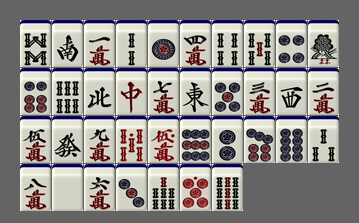0m: (148, 116, 179, 163)
0p: (180, 164, 211, 211)
0s: (116, 116, 147, 163)
1m: (84, 20, 115, 67)
1p: (148, 20, 179, 67)
1s: (308, 20, 339, 67)
1z: (180, 68, 211, 115)
2m: (308, 68, 339, 115)
2p: (212, 116, 243, 163)
2s: (116, 20, 147, 67)
2z: (52, 20, 83, 67)
3m: (244, 68, 275, 115)
3p: (116, 164, 147, 211)
3s: (308, 116, 339, 163)
3z: (276, 68, 307, 115)
4m: (180, 20, 211, 67)
4p: (276, 20, 307, 67)
4s: (212, 20, 243, 67)
4z: (84, 68, 115, 115)
5m: (20, 116, 51, 163)
5p: (212, 68, 243, 115)
5s: (244, 20, 275, 67)
5z: (52, 164, 83, 211)
6m: (84, 164, 115, 211)
6p: (20, 68, 51, 115)
6s: (52, 68, 83, 115)
6z: (52, 116, 83, 163)
7m: (148, 68, 179, 115)
7p: (244, 116, 275, 163)
7s: (148, 164, 179, 211)
7z: (116, 68, 147, 115)
8m: (20, 164, 51, 211)
8p: (276, 116, 307, 163)
8s: (20, 20, 51, 67)
9m: (84, 116, 115, 163)
9p: (180, 116, 211, 163)
9s: (212, 164, 243, 211)
